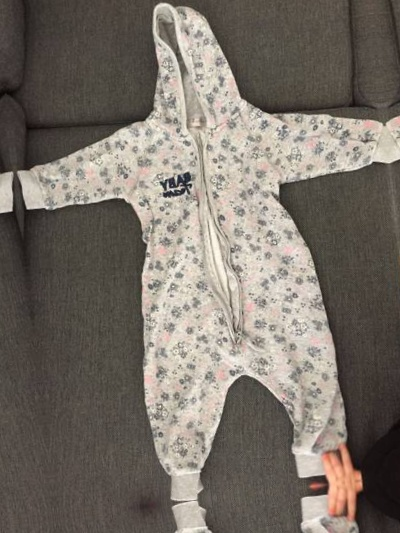Body: (0, 0, 400, 514), (0, 22, 53, 533), (59, 477, 400, 533), (373, 0, 400, 470), (0, 521, 113, 533), (0, 0, 359, 1)
